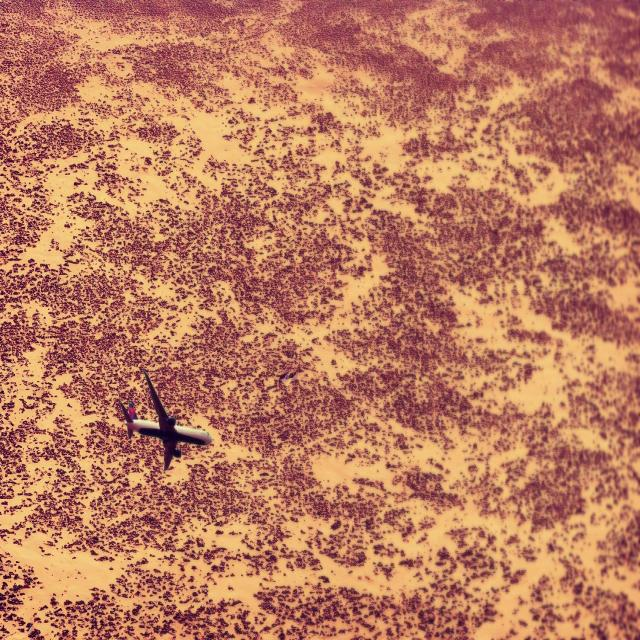airplane: (118, 368, 212, 472)
